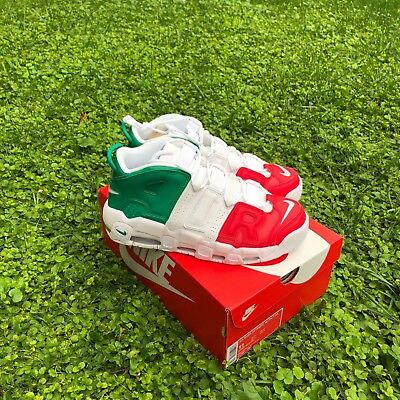Nike Air Uptempo '96 Italy: (102, 140, 314, 267)
